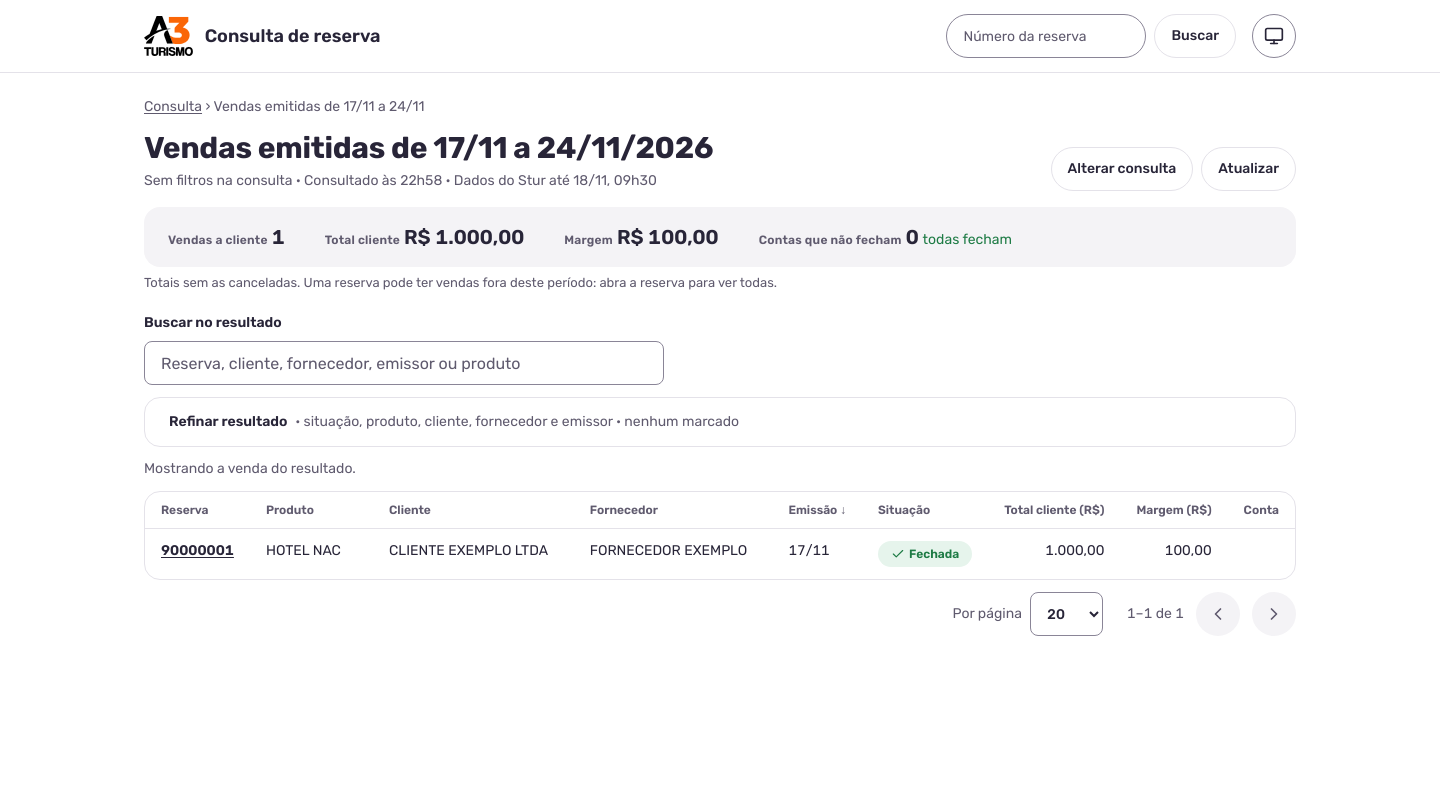
Test case: na moldura, o Atualizar liga a faixa mas não marca o main como ocupado: a linha de status é ouvida
Later steps or results of the test are not shown.
Click the button "Atualizar" at (1249, 169), box [1201, 147, 1296, 191]
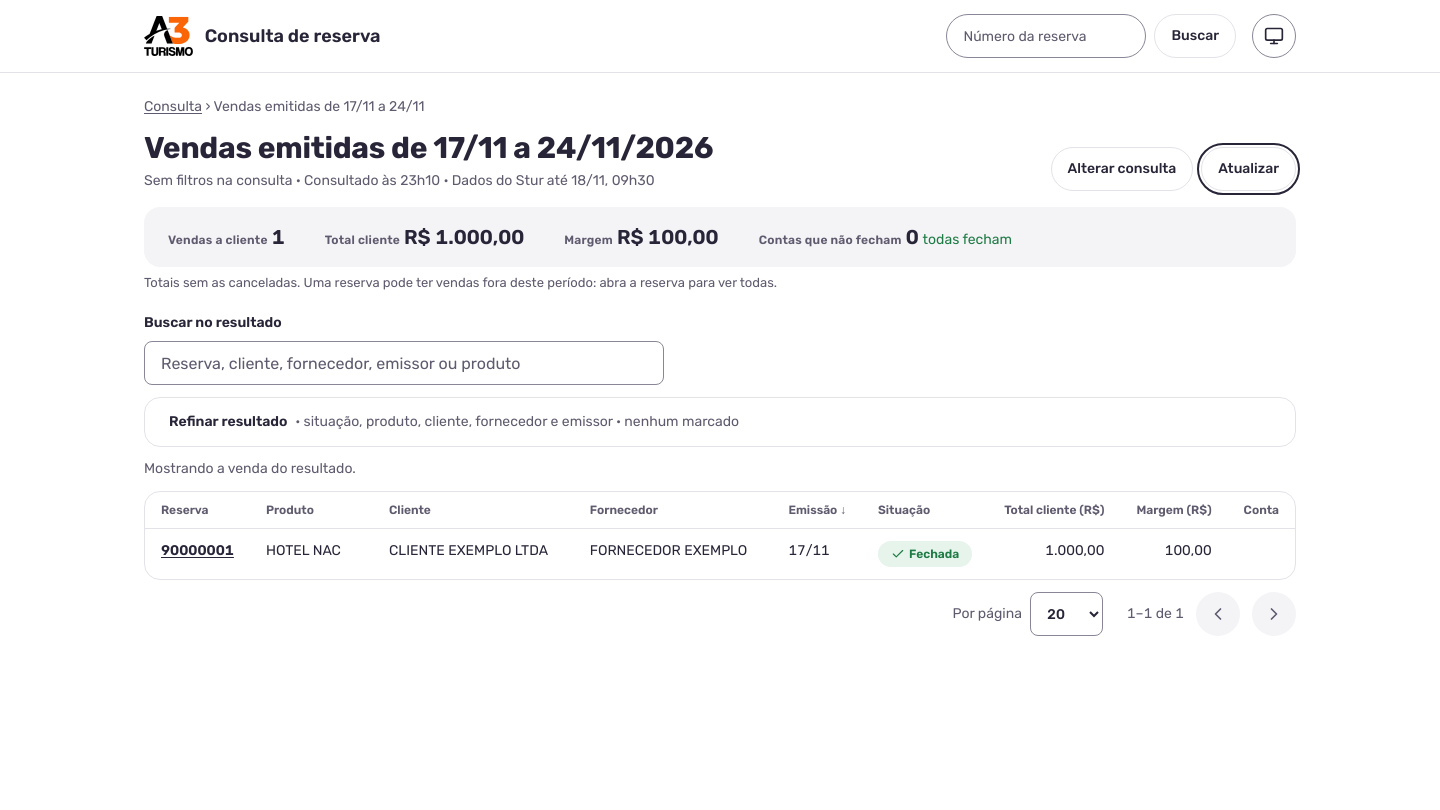
Now the text "Consultado às 23h10" is shown, box [144, 172, 655, 189]
